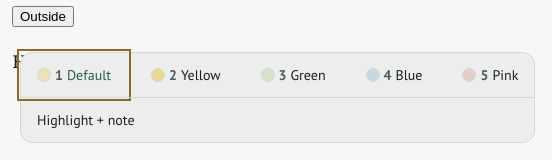
Test case: useSelectionToolbar — saved-range restore (Plan 13-11 G6) › restores the saved range before creating from a toolbar button
Expected: the element with class "selection-toolbar" is shown, [20,52,535,143]
Note: Activation: the restore branch re-enters the ONE creation path.
Step 1. Click the button "1 Default" → x=74, y=75, box [21,53,127,97]
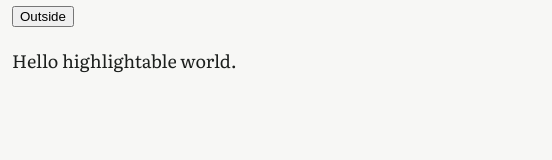
Expected: the element with class "selection-toolbar" is gone
